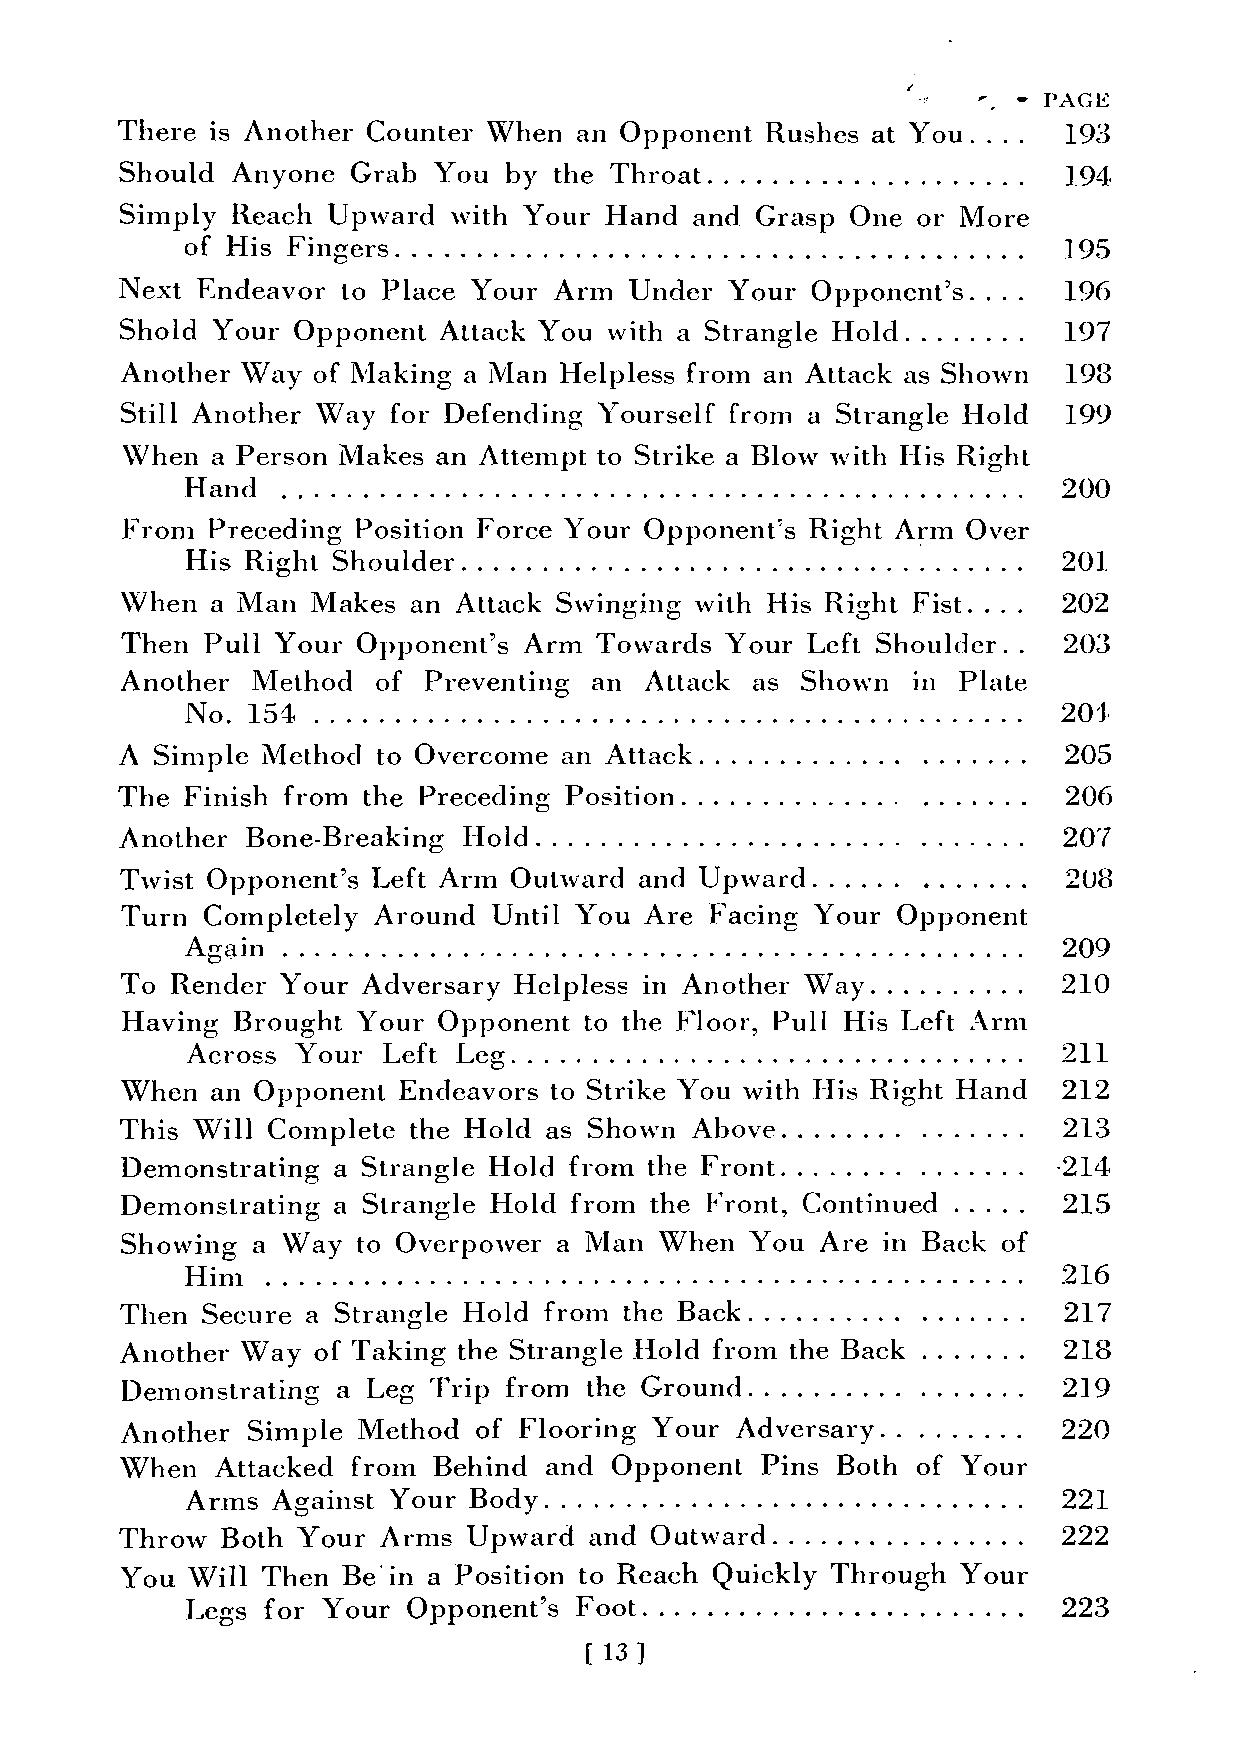TOC_chapter: (118, 393, 1033, 505), (109, 1557, 1024, 1632), (115, 625, 1035, 694), (111, 905, 1036, 966), (118, 515, 1027, 577), (111, 1225, 1020, 1284), (115, 1453, 1035, 1511), (115, 1002, 1028, 1060), (118, 201, 1041, 258), (123, 1072, 1035, 1106), (118, 356, 1044, 388), (114, 1186, 935, 1223), (114, 582, 923, 619), (111, 1333, 905, 1369), (118, 1108, 772, 1150), (118, 315, 900, 349), (114, 1372, 743, 1413), (105, 118, 965, 148), (118, 859, 803, 895), (111, 1523, 760, 1561), (111, 276, 972, 305), (111, 735, 696, 774), (111, 1420, 858, 1447), (109, 157, 703, 189), (115, 1154, 761, 1184), (118, 782, 680, 816), (118, 1300, 742, 1330), (118, 974, 878, 998), (115, 820, 534, 849), (180, 697, 303, 733)
TOC_pagenumber: (1062, 1475, 1108, 1523), (1056, 1584, 1110, 1625), (1062, 228, 1121, 266), (1062, 356, 1121, 392), (1053, 1031, 1111, 1067), (1059, 153, 1121, 187), (1062, 1516, 1113, 1557), (1056, 1365, 1113, 1401), (1053, 115, 1118, 145), (1059, 1410, 1113, 1445), (1059, 929, 1118, 960), (1053, 968, 1113, 998), (1062, 695, 1115, 729), (1066, 274, 1117, 309), (1062, 735, 1113, 770), (1062, 1335, 1113, 1369), (1063, 315, 1115, 348), (1059, 471, 1111, 503), (1059, 819, 1117, 847), (1056, 1190, 1113, 1219), (1059, 1079, 1118, 1106), (1059, 397, 1117, 424), (1066, 862, 1118, 891), (1063, 1300, 1115, 1330), (1062, 1151, 1108, 1184), (1062, 1260, 1118, 1287), (1056, 784, 1115, 809), (1059, 552, 1108, 580), (1062, 631, 1115, 656), (1062, 1115, 1113, 1142), (1063, 586, 1111, 612)
